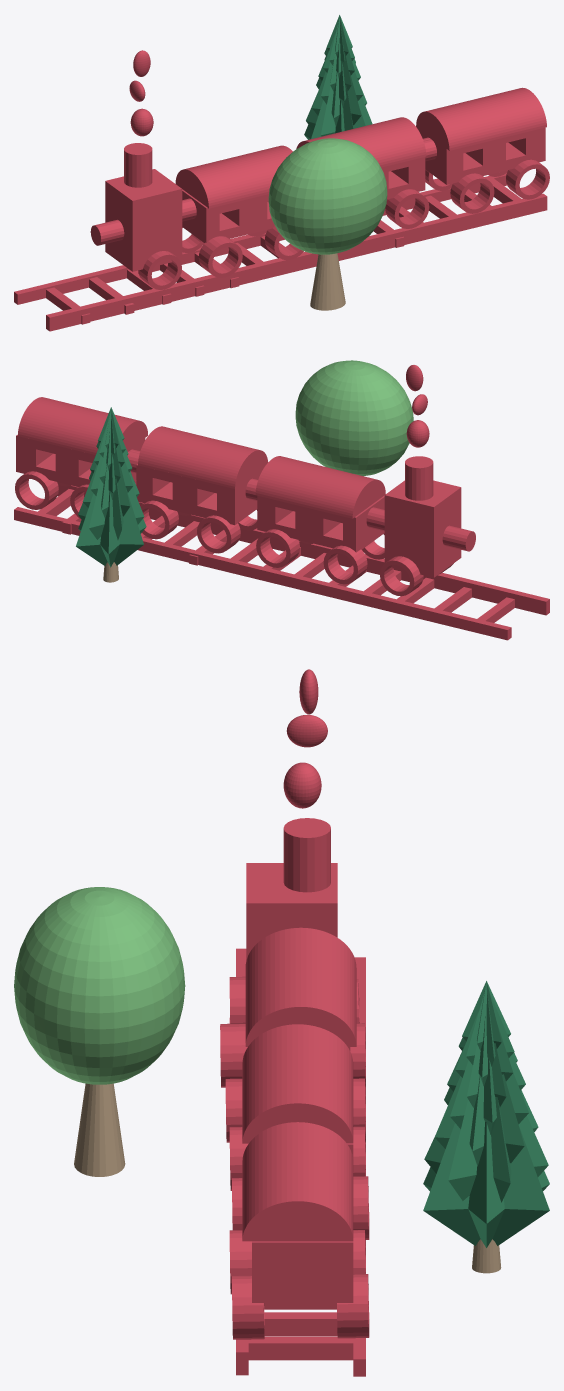
Rendered from Train.glb.
3 renders of one model, top to bottom at view 1: azimuth 30°, elevation 25°; view 2: azimuth 150°, elevation 25°; view 3: azimuth 270°, elevation 25°, orthographic. The views are drawn at different scales.
Visible parts, largest first — view 1: Mesh_Mesh_head_geo.001_lambert2SG.001; view 2: Mesh_Mesh_head_geo.001_lambert2SG.001; view 3: Mesh_Mesh_head_geo.001_lambert2SG.001.
Boxes of the visible parts, box(x1,y1,x2,y2) form: Mesh_Mesh_head_geo.001_lambert2SG.001: box(14, 15, 549, 331); Mesh_Mesh_head_geo.001_lambert2SG.001: box(14, 360, 549, 640); Mesh_Mesh_head_geo.001_lambert2SG.001: box(14, 669, 549, 1376).
Bounding box in the file's own units: 303 × 137 × 169.
